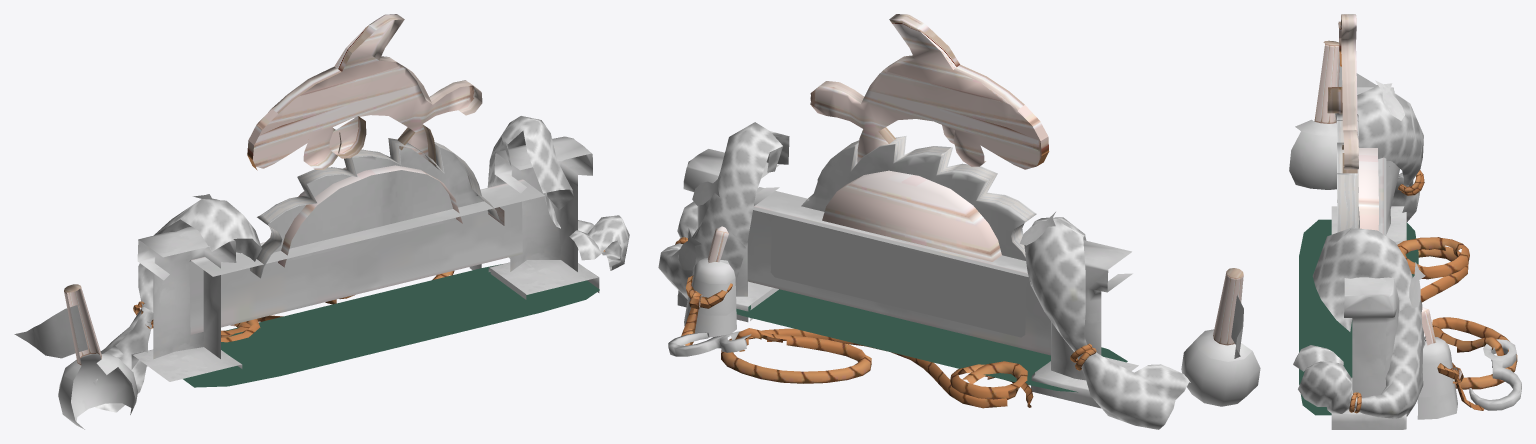
Rendered from DecoNameSign2.fbx.
3 renders of one model, left to right at view 1: azimuth 30°, elevation 25°; view 2: azimuth 150°, elevation 25°; view 3: azimuth 270°, elevation 25°, orthographic.
Visible parts, largest first — view 1: NameSignFishing, ShadowSquare (×2); view 2: NameSignFishing, ShadowSquare (×2); view 3: NameSignFishing, ShadowSquare (×2).
Boxes of the visible parts, <box> form: NameSignFishing: <box>14,14,629,429</box>; ShadowSquare (×2): <box>183,264,599,387</box>; NameSignFishing: <box>658,14,1260,429</box>; ShadowSquare (×2): <box>736,289,1127,392</box>; NameSignFishing: <box>1289,14,1521,429</box>; ShadowSquare (×2): <box>1299,219,1418,415</box>.
Bounding box in the file's own units: 5.81 × 3.21 × 2.
3 materials, 2 textured.
